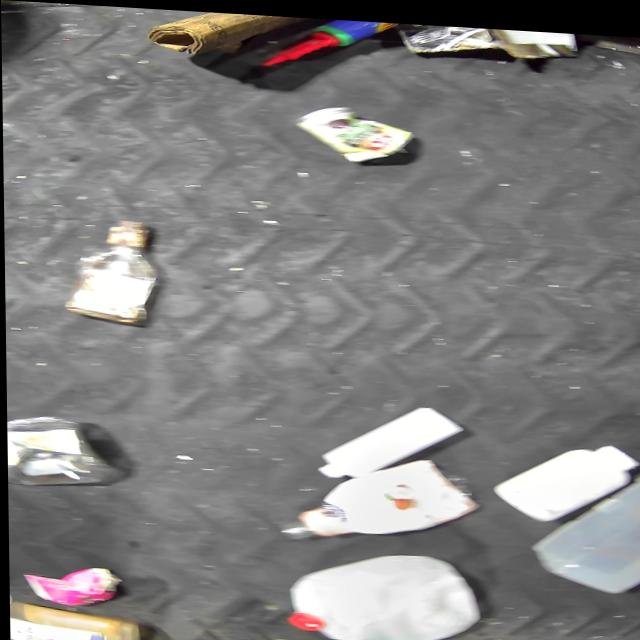can: (289, 100, 417, 162), (18, 561, 123, 608)
milk_jug: (279, 544, 482, 640), (525, 445, 640, 591)
